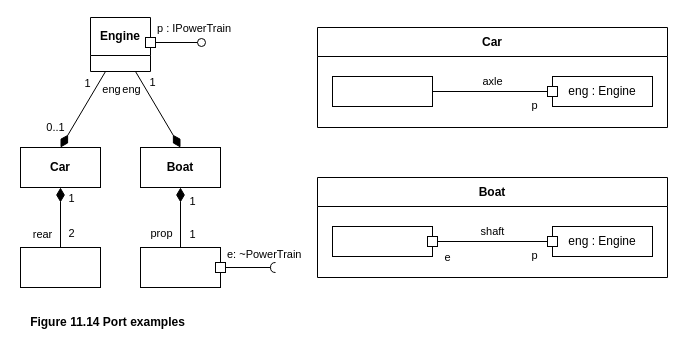
Some shapes in this 685 by 355 pixel diagram are drawn without their labels. The centre of each missing label's shape, as x and y in pixels:
"prop : Propeller" goes at [382,241].
"Propeller" goes at [180,267].
"rear : Wheel[2]" goes at [382,91].
"Wheel" goes at [60,267].
